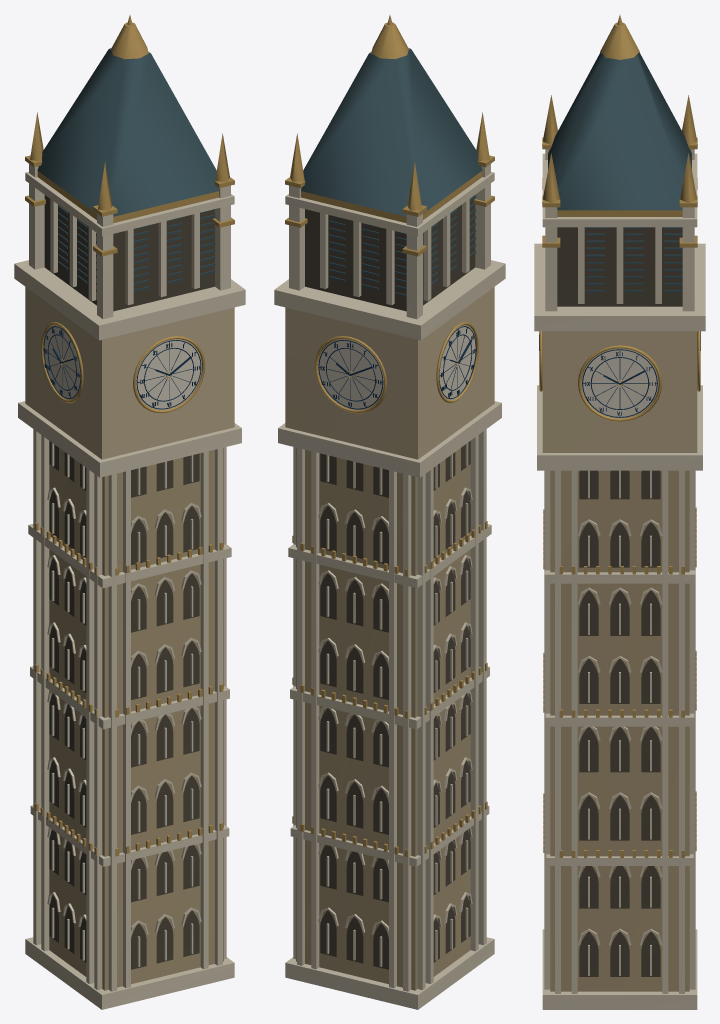
Rendered from landmark-big-ben-medium-v2.glb.
The picture shows the model from 3 angles, left to right: view 1: azimuth 30°, elevation 25°; view 2: azimuth 150°, elevation 25°; view 3: azimuth 270°, elevation 25°; orthographic projection.
Visible parts, largest first — view 1: Big Ben; view 2: Big Ben; view 3: Big Ben.
Part boxes in pixels (x1,y1,x2,y2): Big Ben: (14,15,245,1009); Big Ben: (274,15,505,1009); Big Ben: (534,15,705,1009).
Size of the model in its own units: 0.1615 by 1 by 0.1615.
